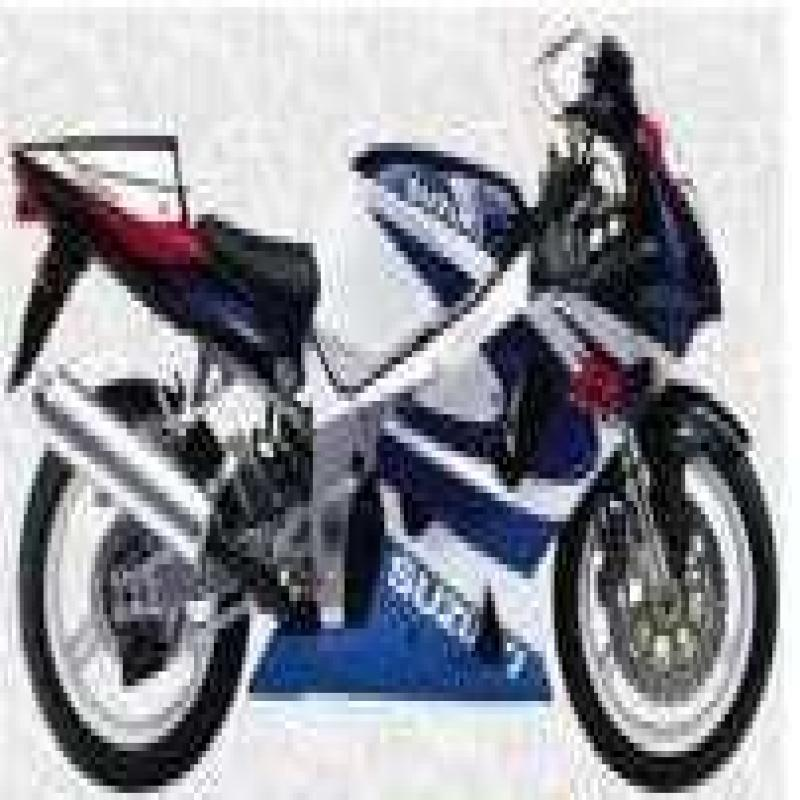bike: (0, 56, 800, 779)
